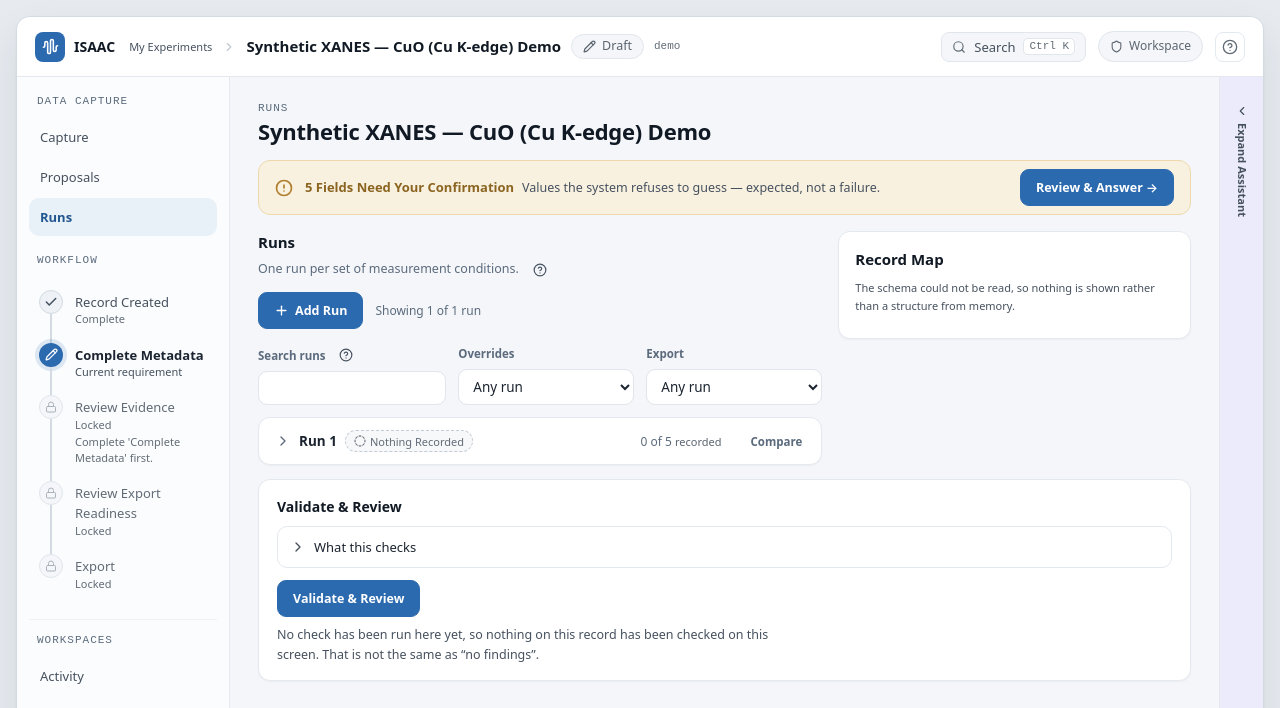
Scenario: the control that did not exist › adopts the renamed run the server returned, and says the rename landed
Expected: the button "Add Run" is shown, [258,292,363,330]
Click the button "Run 1 Nothing Recorded 0 of 5 recorded": (291, 450) [259,418,738,464]
(page scrolled)
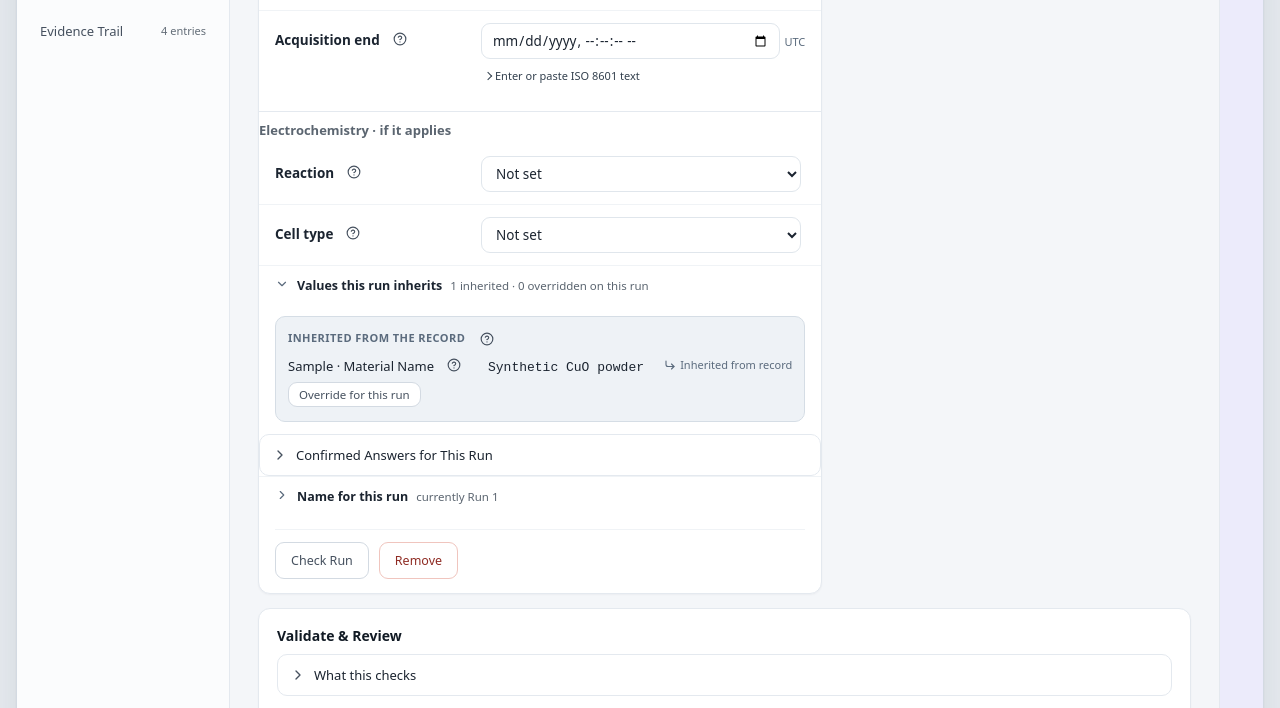
Click the button "Name for this run currently Run 1": (353, 496) [259,477,821,515]
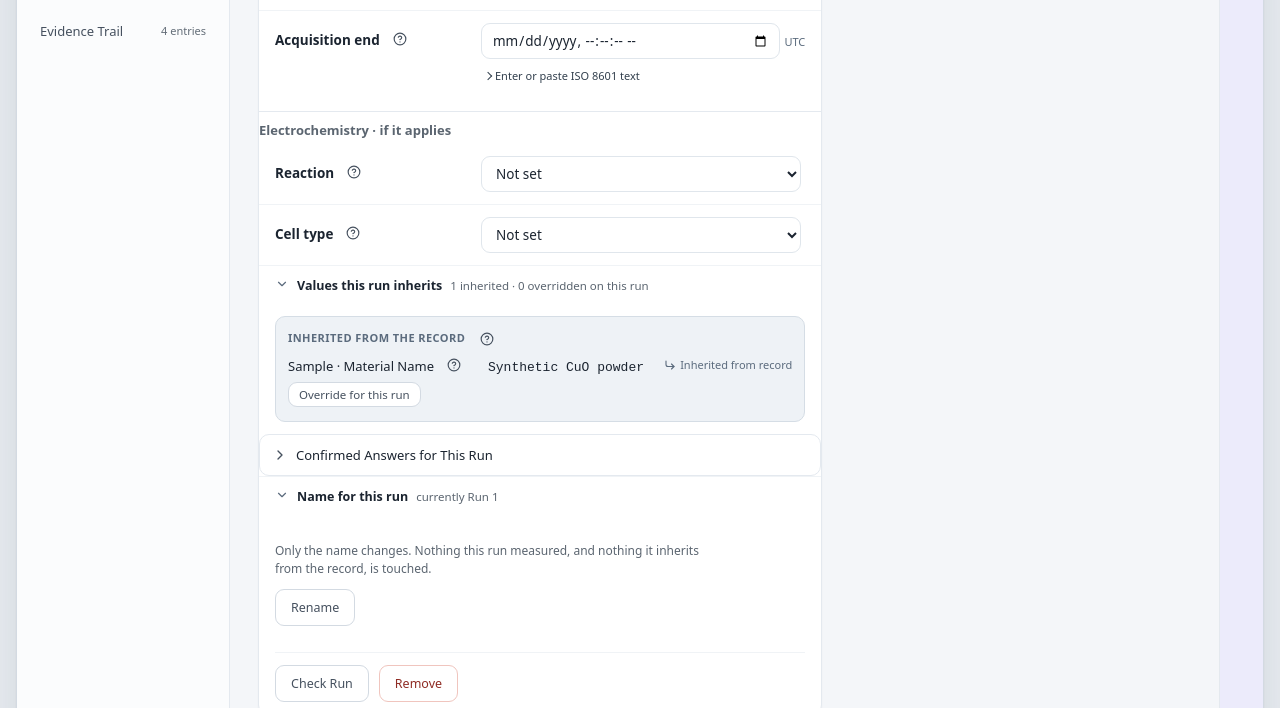
Click the button with aria-label "Rename run Run 1": (315, 607) [275,589,355,626]
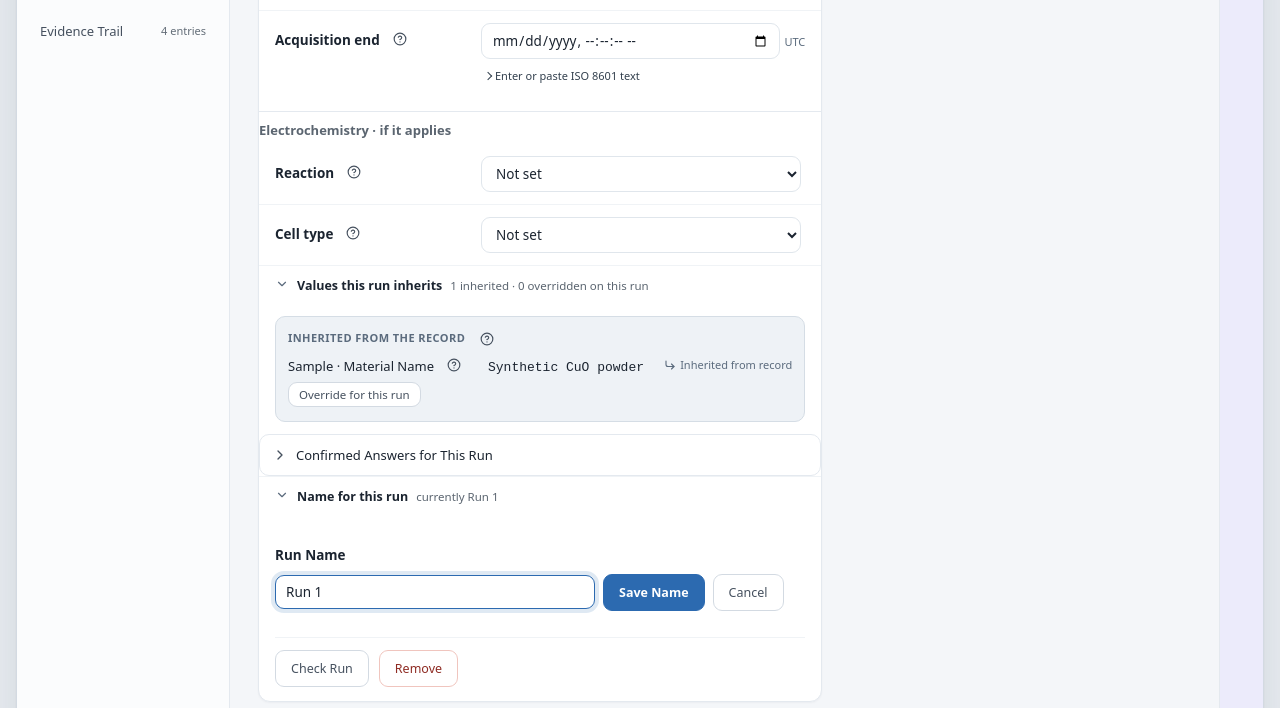
Replace the text in the field labelled "Run Name" with "300 K, in situ": (435, 592) [275,575,595,609]
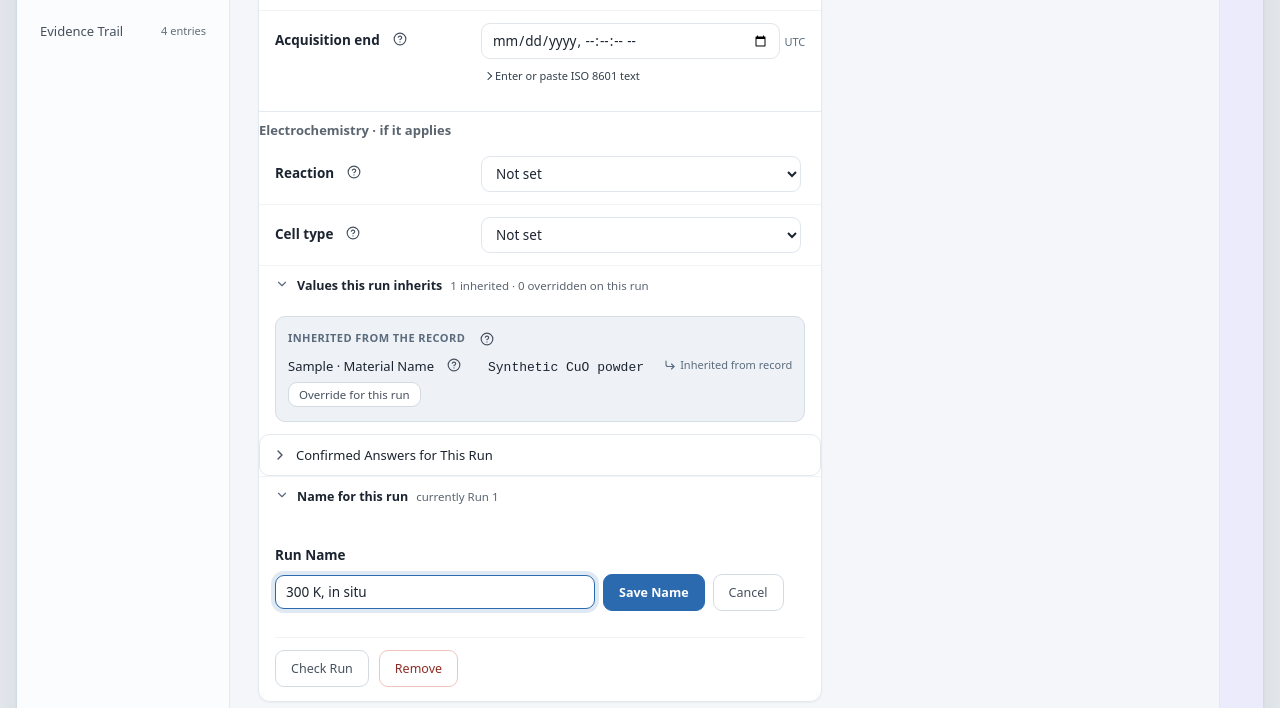
Click the button "Save Name": (654, 592) [603,574,705,610]
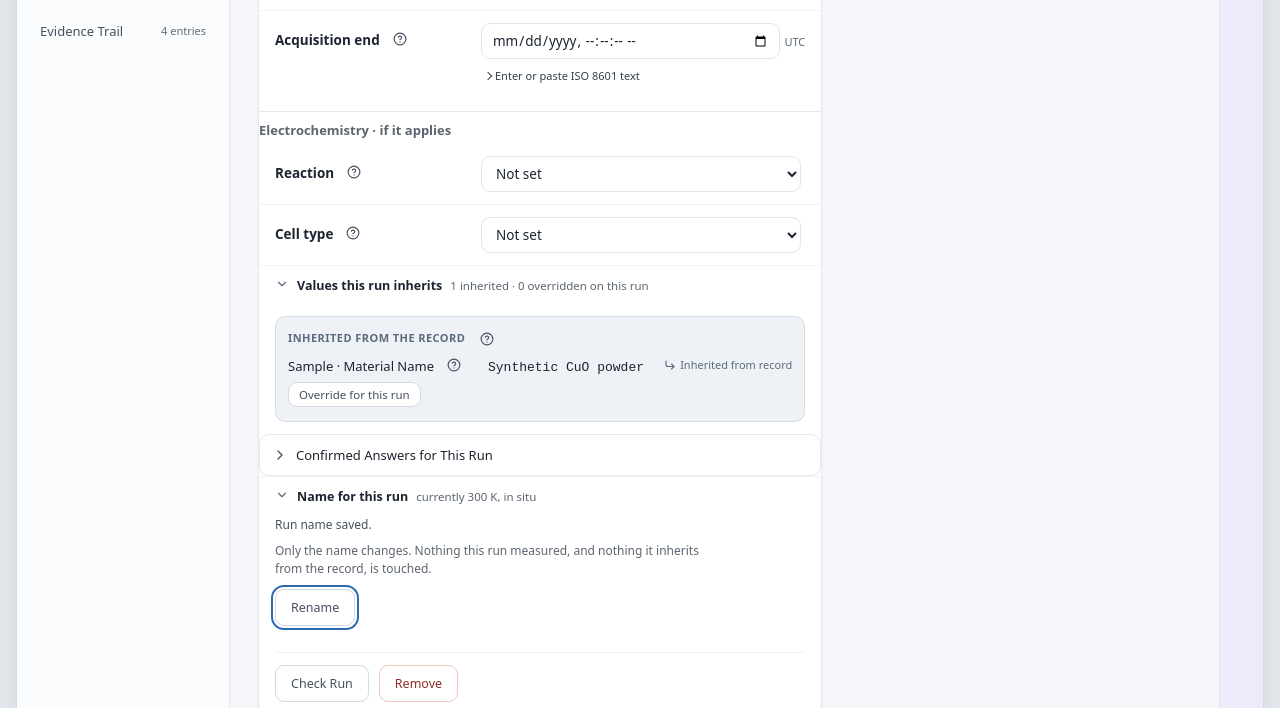
Now the message with class "run-rename-status" reads "Run name saved.", box [275,516,372,533]
